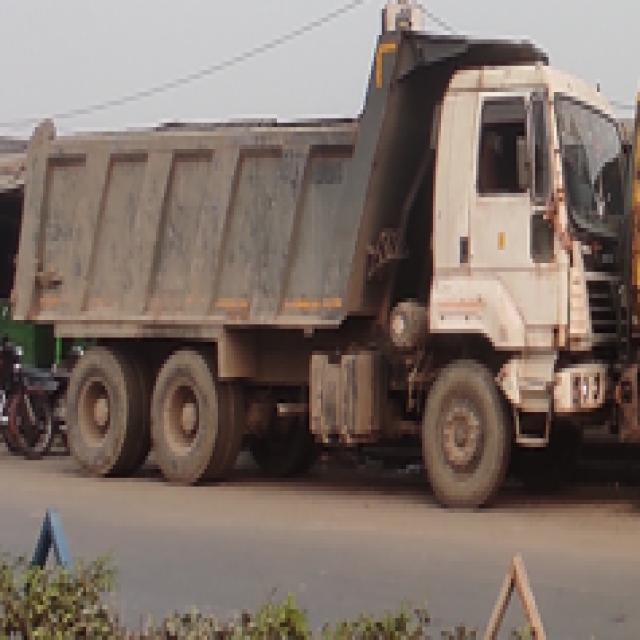truck: (16, 31, 635, 513)
